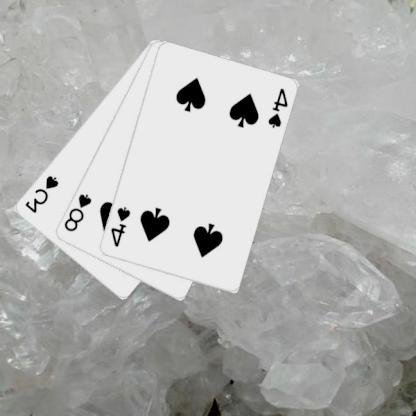3S: (23, 173, 62, 214)
4S: (109, 204, 134, 249), (266, 85, 291, 130)
8S: (62, 191, 94, 233)
